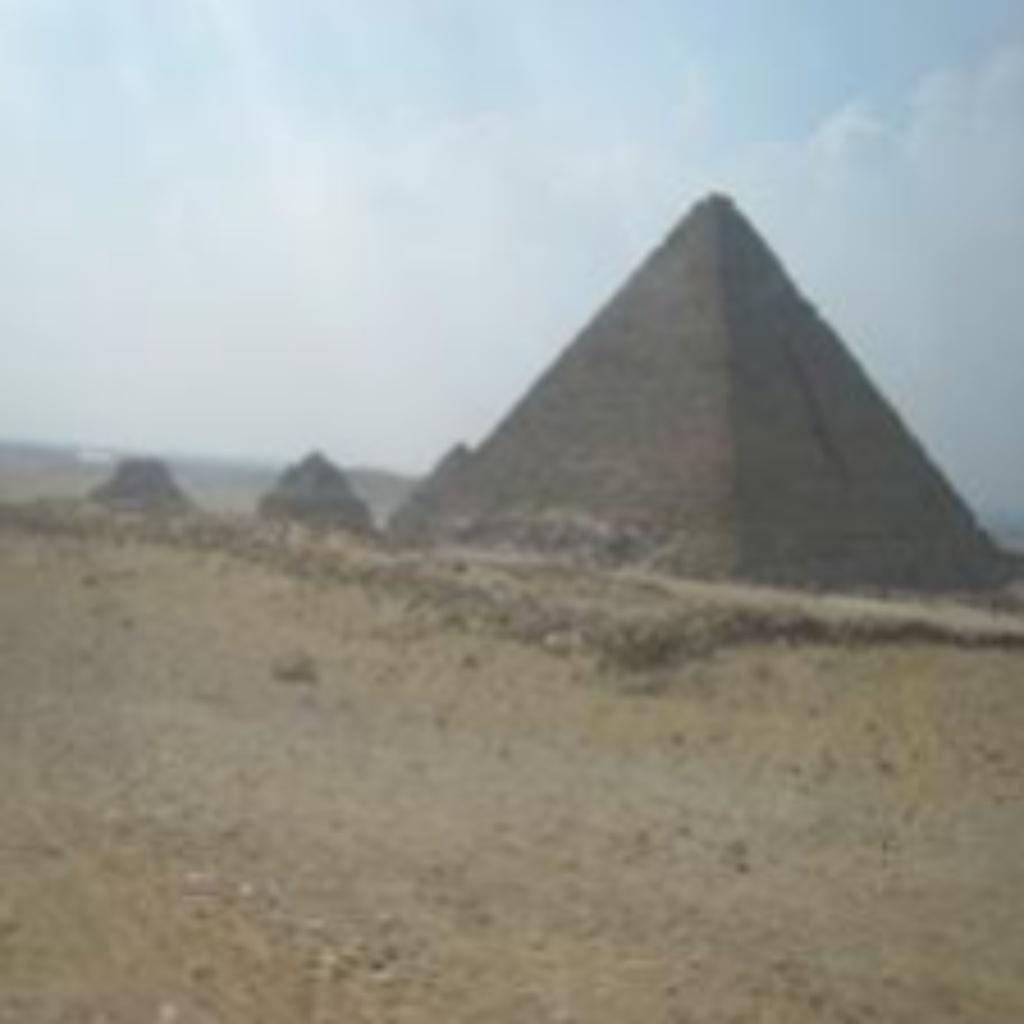Great Pyramids of Giza: (389, 183, 1024, 599)
